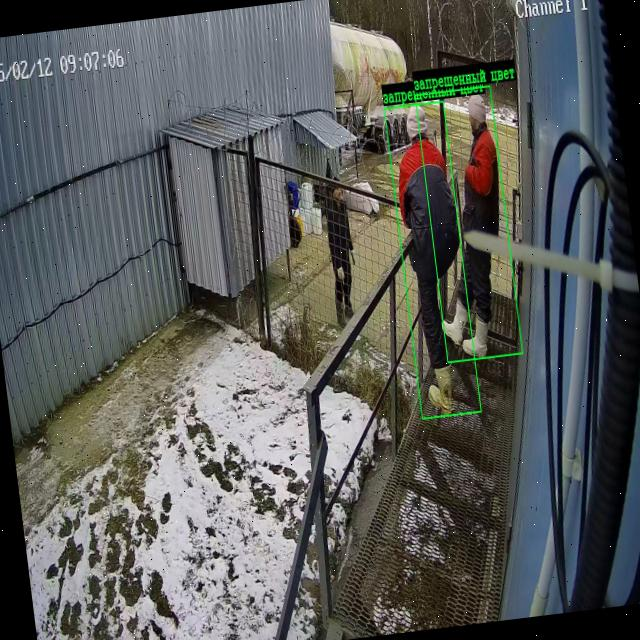Person: (324, 197, 351, 320)
Red uniform: (398, 107, 458, 369), (462, 95, 498, 235), (463, 242, 492, 355)
